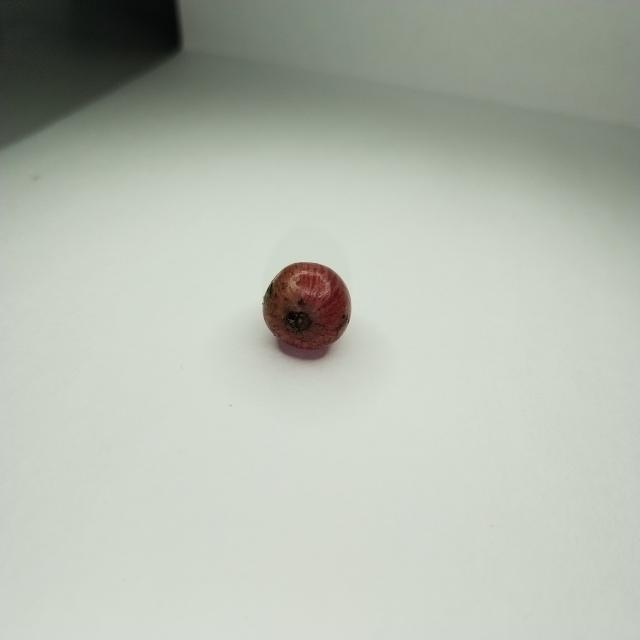Infectado: (260, 262, 353, 359)
